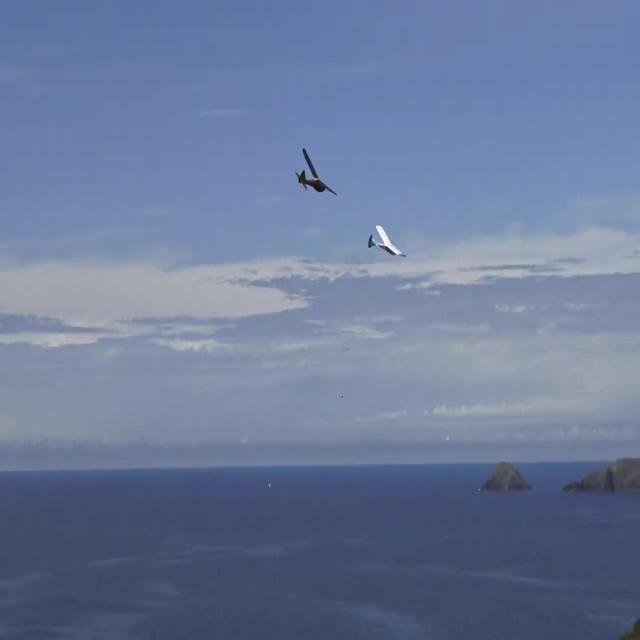iha: (294, 147, 339, 197), (368, 225, 406, 259)
